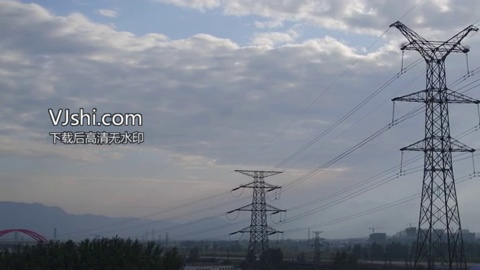tower_body: (385, 16, 480, 269), (228, 163, 290, 270)
tower_foot: (416, 229, 467, 268), (246, 241, 278, 269)
tower_head: (388, 19, 478, 65), (231, 166, 285, 192)
